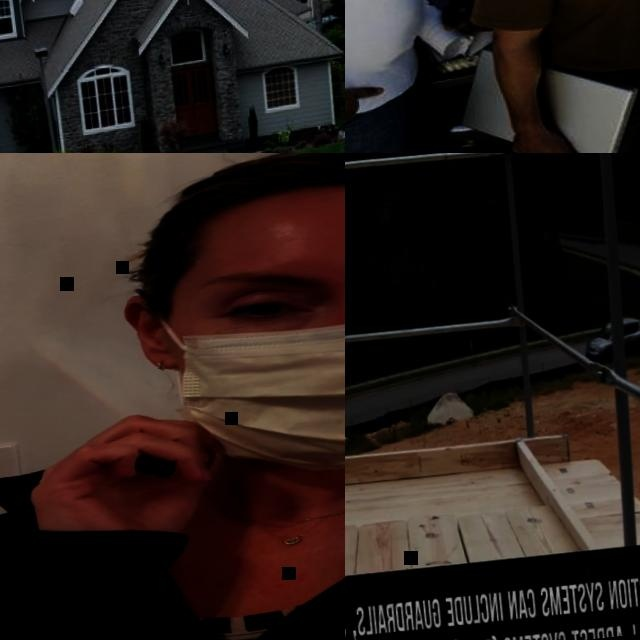Mask: (165, 254, 345, 470)
NO-Hardhat: (157, 153, 345, 251)
NO-Safety Vest: (0, 437, 345, 640), (345, 0, 463, 116), (517, 0, 640, 80)
Person: (0, 153, 345, 640), (465, 0, 640, 153), (345, 0, 517, 153)
vehicle: (345, 0, 640, 112), (582, 314, 640, 359)
